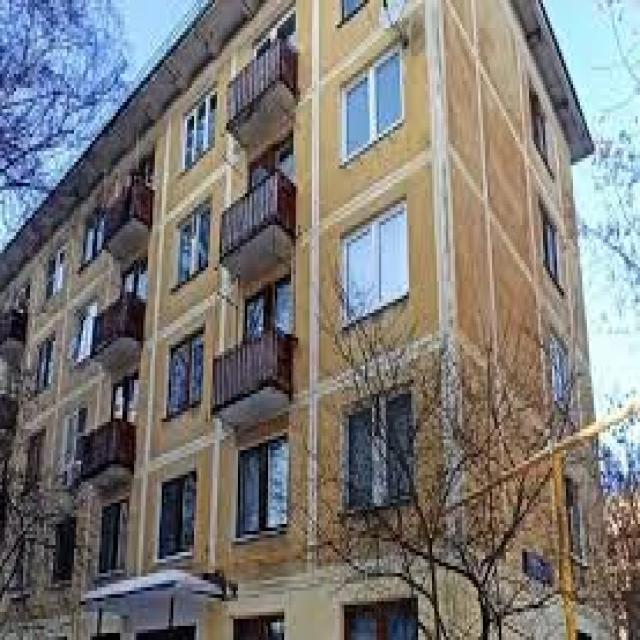window: (328, 387, 418, 510), (340, 200, 409, 324), (335, 35, 400, 158), (233, 429, 291, 535), (162, 327, 206, 426), (152, 471, 198, 559), (538, 200, 568, 296), (552, 327, 580, 415), (97, 499, 129, 574), (55, 401, 81, 485), (70, 295, 100, 366), (185, 95, 215, 162), (180, 207, 208, 278), (51, 517, 74, 580), (42, 246, 64, 306), (534, 91, 550, 169), (33, 338, 56, 390)
